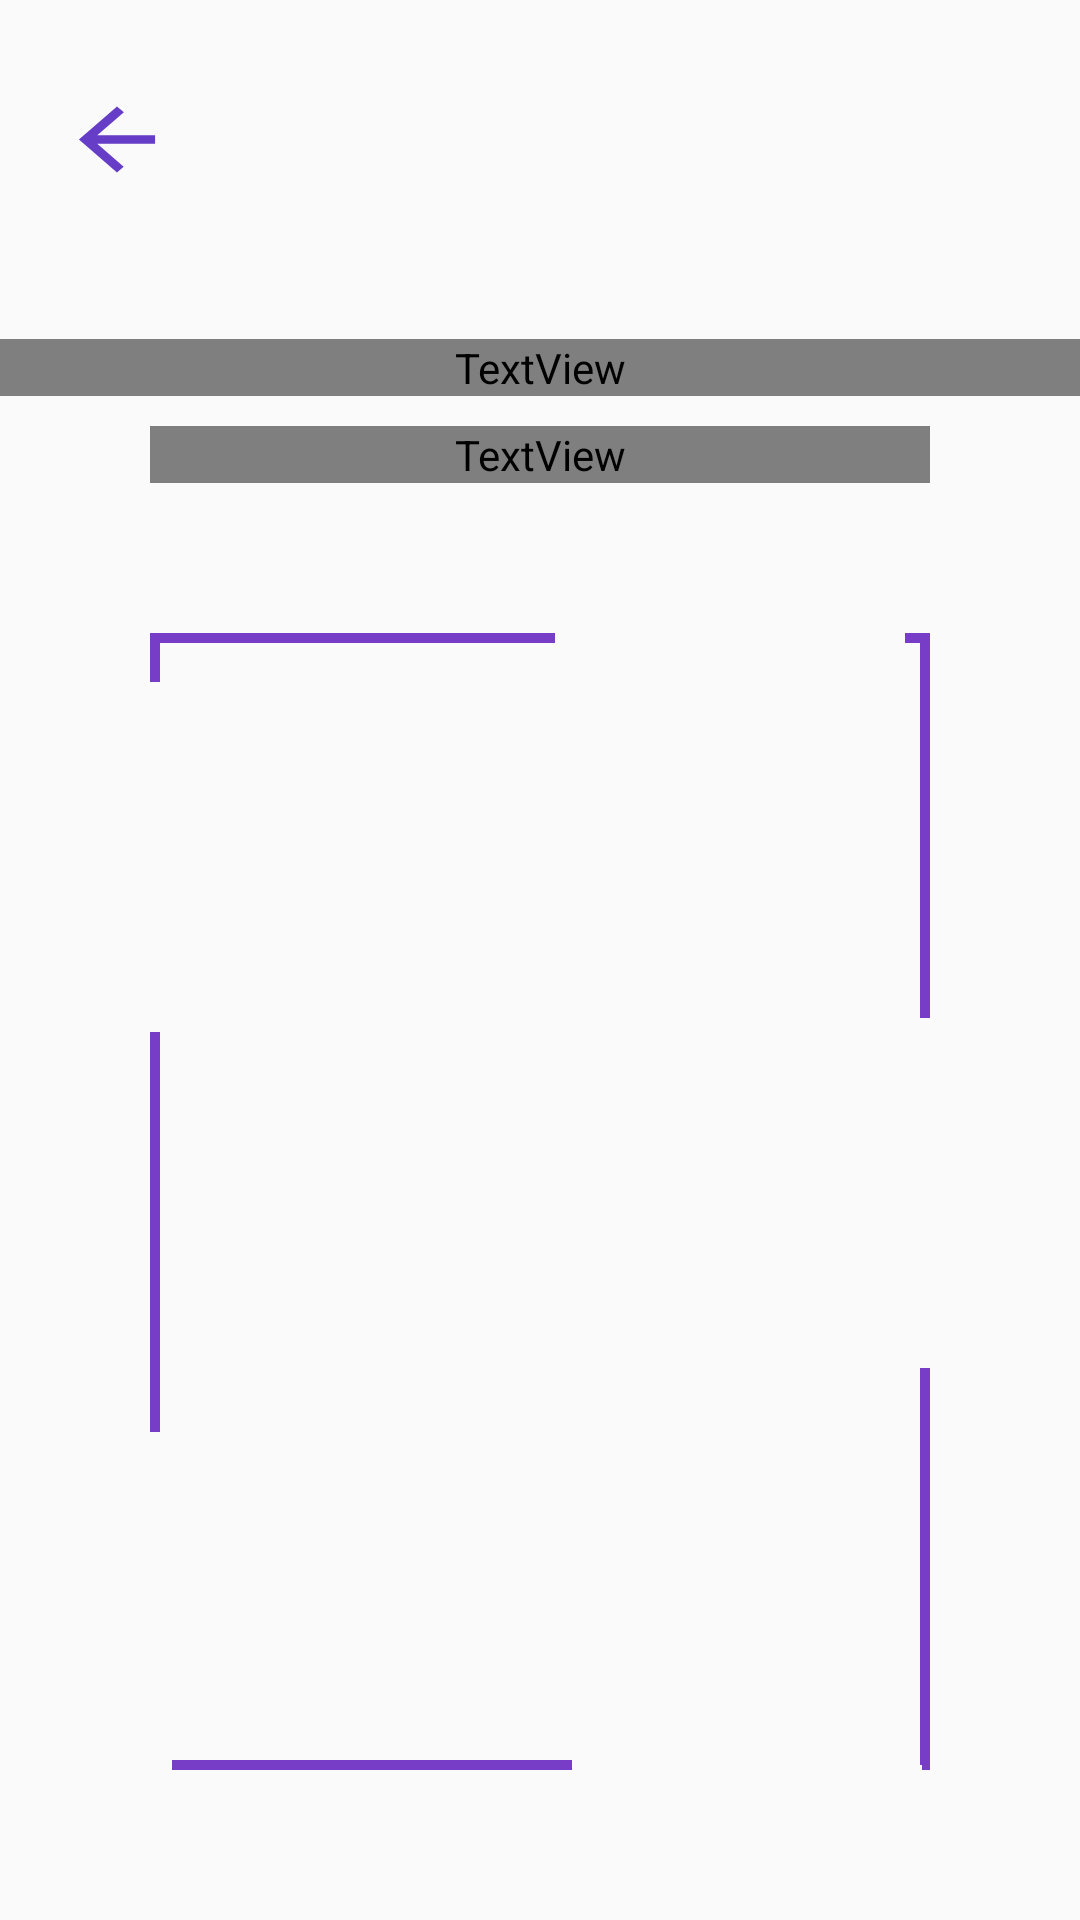

Named icons in this screenshot (1080px×1920px) and their bounding boxes, (x1, y1, x2, y2):
arrow back: (79, 106, 155, 173)
